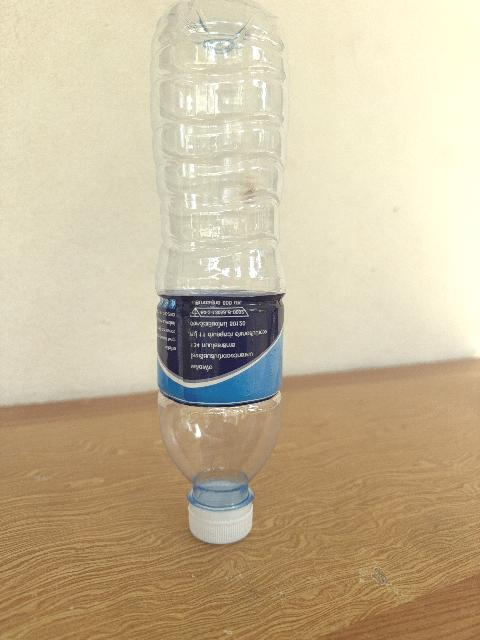bottle: (150, 0, 287, 543)
